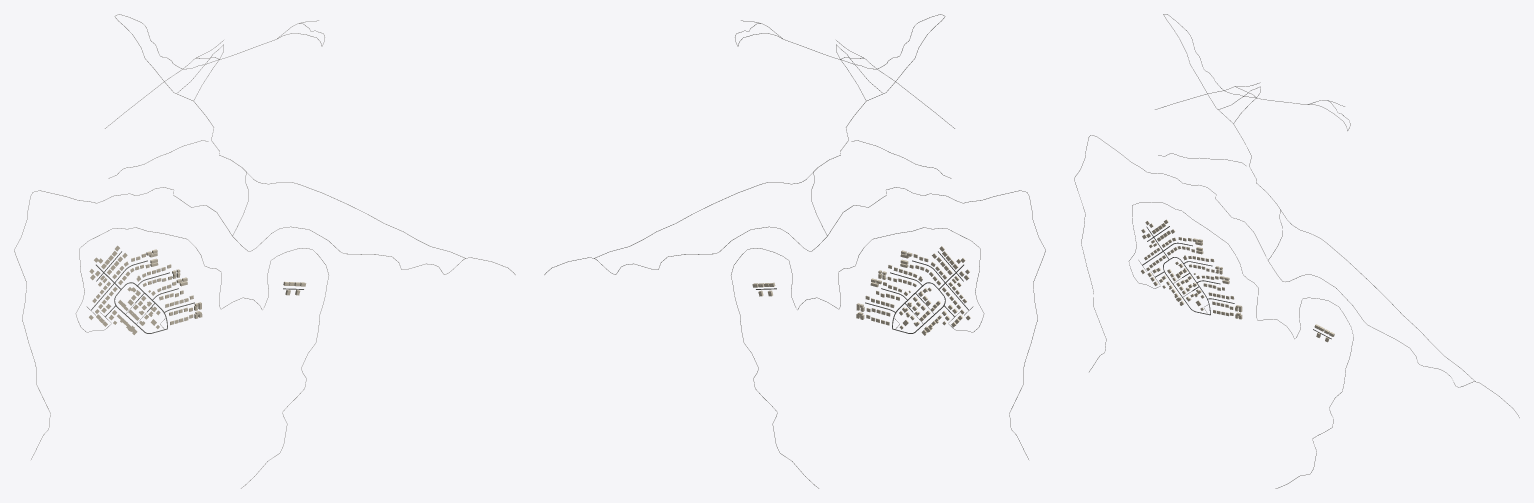
Rendered from historic-palestine-10_18_3521_3127.glb.
3 views of the same model, side by side, from view 1: azimuth 30°, elevation 25°; view 2: azimuth 150°, elevation 25°; view 3: azimuth 330°, elevation 25° (orthographic). The views are drawn at different scales.
Visible parts, largest first — view 1: Road .001, Road .002; view 2: Road .001, Road .002; view 3: Road .001, Road .002.
Boxes of the visible parts, x1,y1,x2,y2 form: Road .001: [14, 187, 515, 459]; Road .002: [75, 227, 328, 488]; Road .001: [544, 187, 1045, 459]; Road .002: [731, 227, 984, 488]; Road .001: [1074, 135, 1519, 417]; Road .002: [1128, 202, 1353, 488].
Bounding box in the file's own units: 1909 × 1835 × 10.2.
